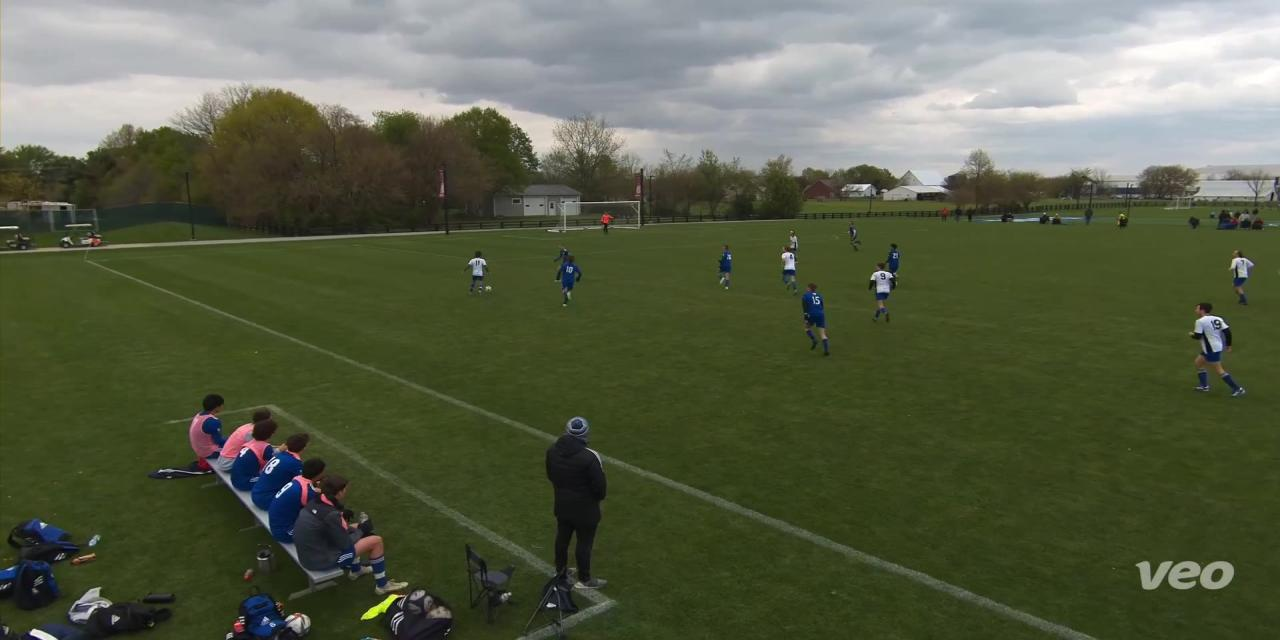goal: (544, 196, 653, 235)
sports ball: (481, 281, 495, 297)
